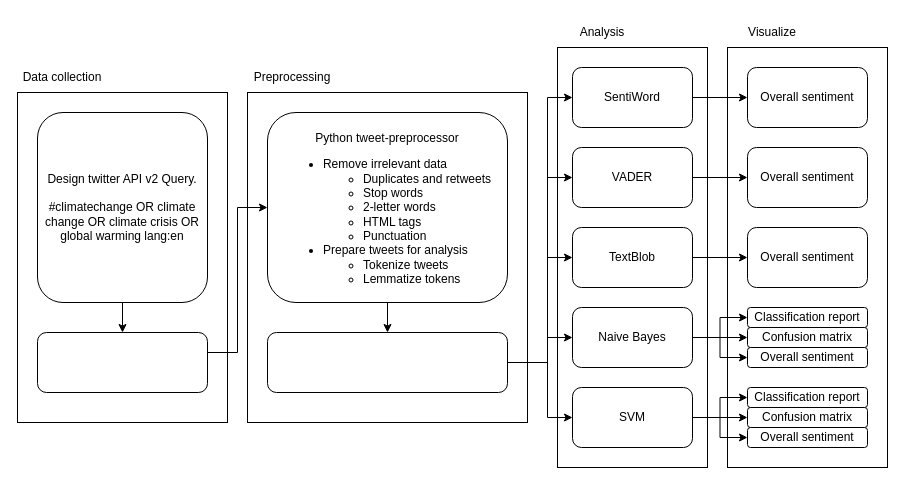
Some shapes in this 905 by 485 pixel diagram are drawn without their labels. Each missing label, with the centre of its shape:
"Cleaned tweet dataset of 2576 tweets" goes at pixel 387 362.
"Retrieve 10000 random tweets with Twitter API v2" goes at pixel 122 362.
